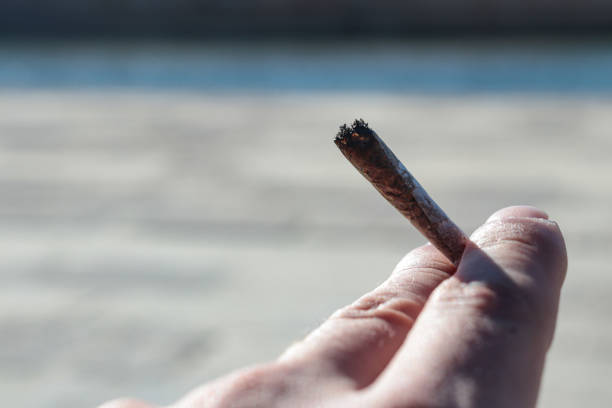cigarette: (332, 118, 473, 267)
